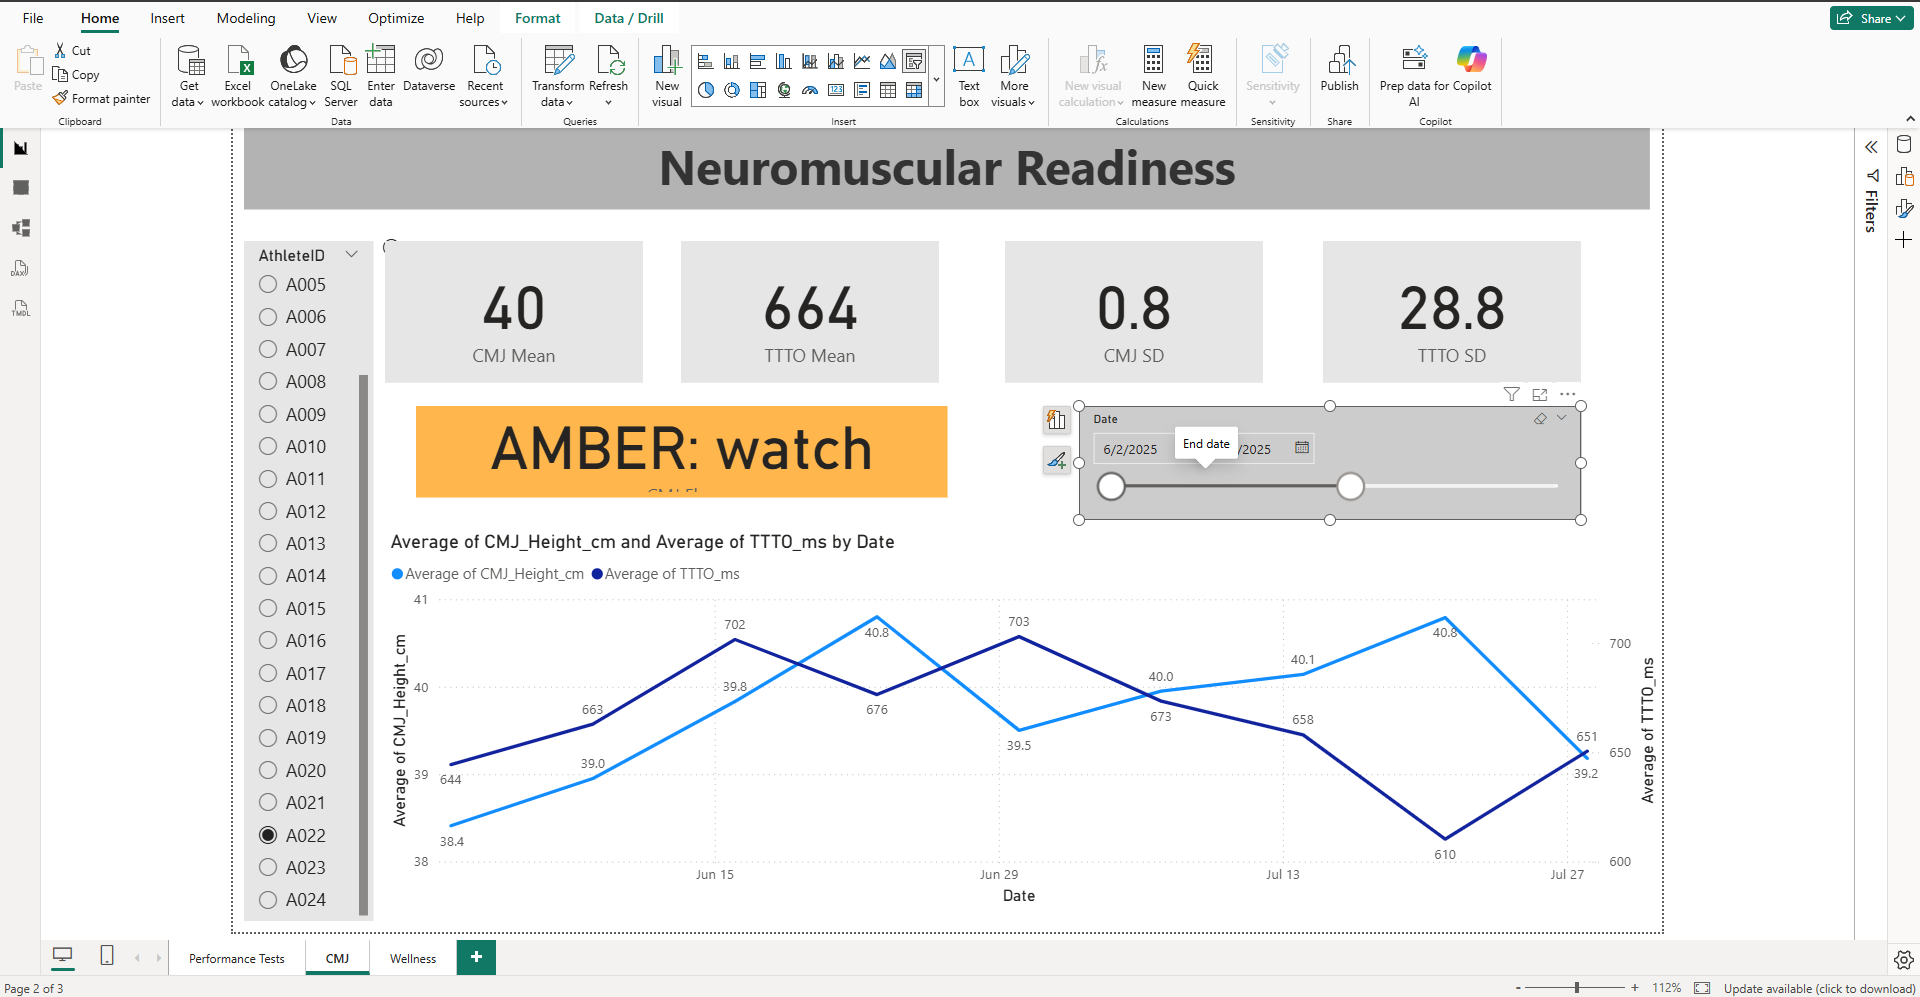

The dashboard page shown, as its layout file describes it:
{"tool":"powerbi","page":{"name":"CMJ","canvas":[1280,720],"ordinal":1},"visuals":[{"type":"textbox","box":[9.9,0,1259.1,73.4],"z":0},{"type":"slicer","fields":{"Values":["tCMJ_Weekly.AthleteID"]},"box":[9.9,101.2,115.5,609],"z":1000},{"type":"lineChart","fields":{"Category":["tCMJ_Weekly.Date"],"Y":["Avg(tCMJ_Weekly.CMJ_Height_cm)"],"Y2":["Avg(tCMJ_Weekly.TTTO_ms)"]},"box":[136.1,360,1142.7,340.3],"z":2000},{"type":"card","box":[126.3,91.3,231,127.2],"z":3000},{"type":"card","fields":{"Values":["Athlete.CMJ Mean"]},"box":[136.3,101.3,231,127.2],"z":4000},{"type":"card","fields":{"Values":["Athlete.CMJ SD"]},"box":[691.3,101.2,231,127.2],"z":5000},{"type":"card","fields":{"Values":["Athlete.TTTO SD"]},"box":[976.1,101.2,231,127.2],"z":6000},{"type":"card","fields":{"Values":["Athlete.TTTO Mean"]},"box":[401.2,101.2,231,127.2],"z":7000},{"type":"card","fields":{"Values":["Athlete.CMJ Flag"]},"box":[163.9,249,476.4,82.4],"z":8000},{"type":"slicer","fields":{"Values":["tCMJ_Weekly.Date"]},"box":[858.8,257.9,283,102.1],"z":9000}]}

Visuals, with their boxes on the page's 1280x720 design canvas (x1, y1, x2, y2). These are canvas units, not pixel positions in the 1920x997 screenshot, which may show the page scaled, cropped or inside an application window:
textbox: 10:0:1269:73
slicer - tCMJ_Weekly.AthleteID: 10:101:125:710
lineChart - tCMJ_Weekly.Date x Avg(tCMJ_Weekly.CMJ_Height_cm): 136:360:1279:700
card: 126:91:357:218
card - Athlete.CMJ Mean: 136:101:367:228
card - Athlete.CMJ SD: 691:101:922:228
card - Athlete.TTTO SD: 976:101:1207:228
card - Athlete.TTTO Mean: 401:101:632:228
card - Athlete.CMJ Flag: 164:249:640:331
slicer - tCMJ_Weekly.Date: 859:258:1142:360
